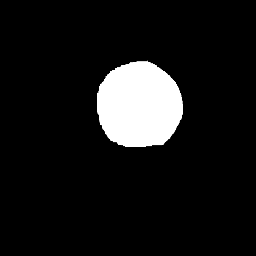mass: (90, 60, 193, 148)
